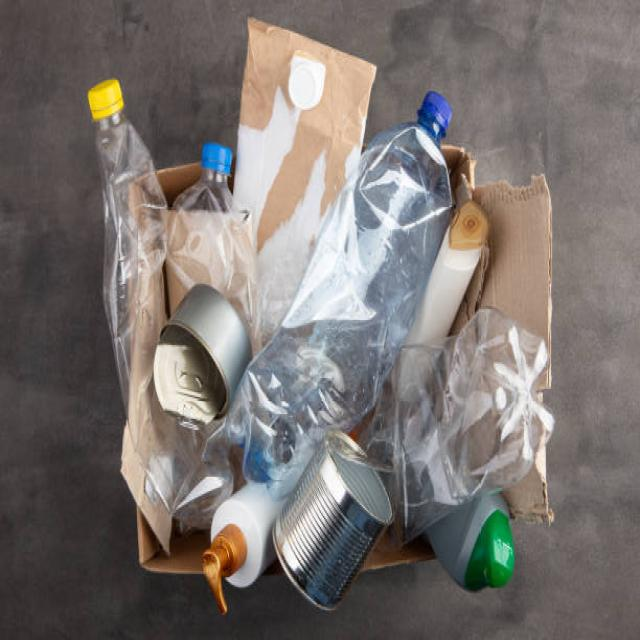metal: (282, 461, 374, 596), (161, 311, 241, 414)
plastic: (332, 193, 418, 369), (400, 383, 525, 491)
